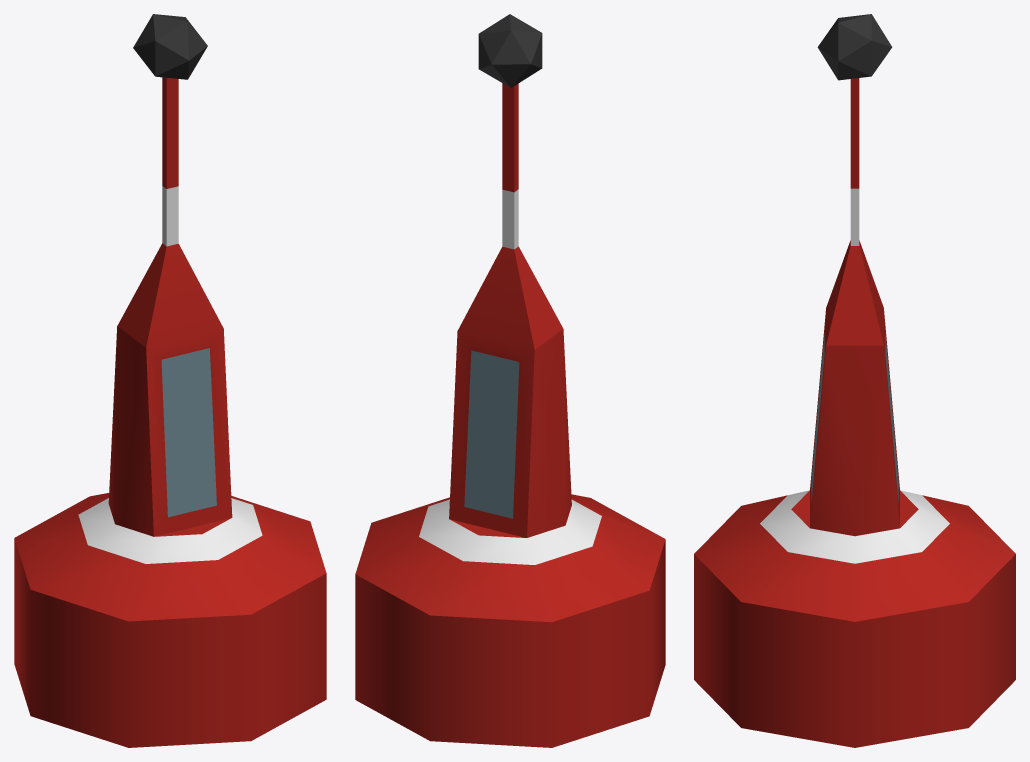
File: buoy.fbx
The picture shows the model from 3 angles, left to right: view 1: azimuth 30°, elevation 25°; view 2: azimuth 150°, elevation 25°; view 3: azimuth 270°, elevation 25°; orthographic projection.
Parts seen in each view (by area): view 1: buoy; view 2: buoy; view 3: buoy.
Part boxes in pixels (left/top/right/bottom): buoy: left=14, top=14, right=326, bottom=747; buoy: left=355, top=14, right=665, bottom=747; buoy: left=694, top=14, right=1015, bottom=747.
Bounding box in the file's own units: 1650 × 3742 × 1650.
